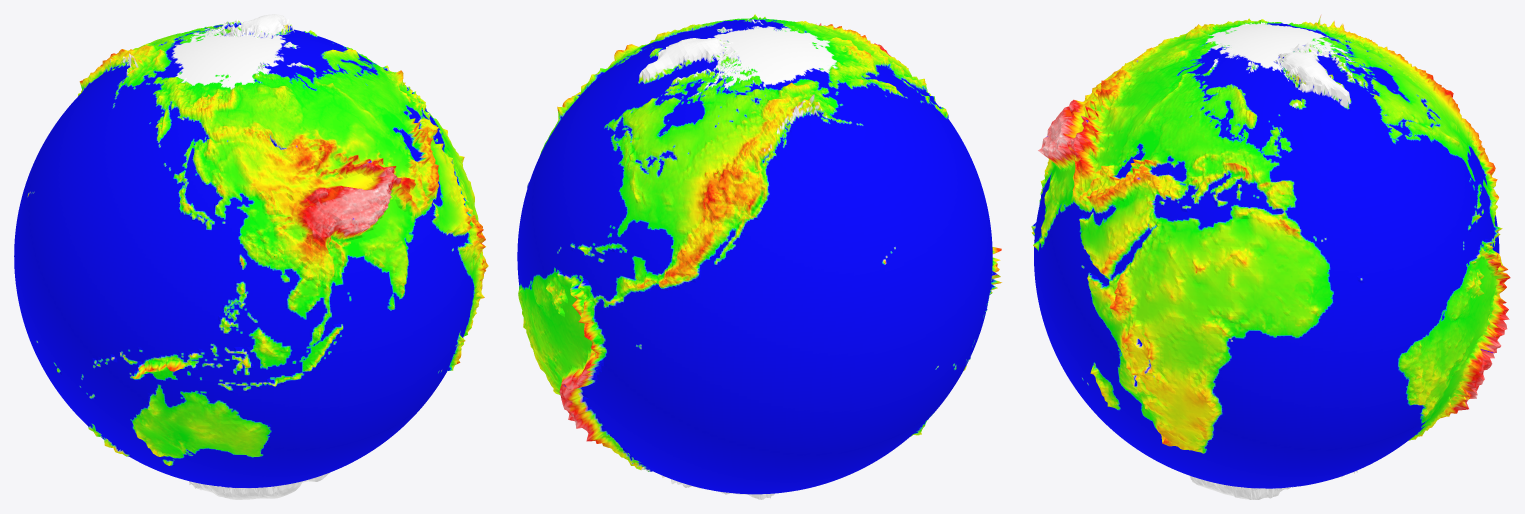
The model's file is globe_relief.glb.
3 renders of one model, left to right at view 1: azimuth 30°, elevation 25°; view 2: azimuth 150°, elevation 25°; view 3: azimuth 270°, elevation 25°, orthographic. The views are drawn at different scales.
Visible parts, largest first — view 1: globe; view 2: globe; view 3: globe.
Boxes of the visible parts, bbox=[...] form: globe: bbox=[14, 14, 488, 499]; globe: bbox=[517, 14, 1001, 499]; globe: bbox=[1031, 14, 1510, 499].
Size of the model in its own units: 120 by 126 by 124.
1 material, 1 textured.
